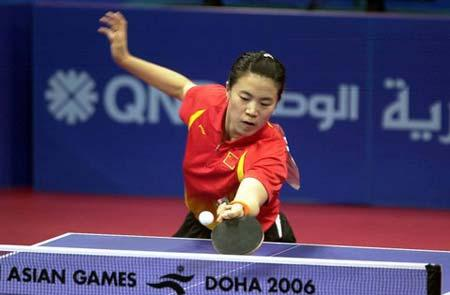ball: (195, 208, 215, 226)
